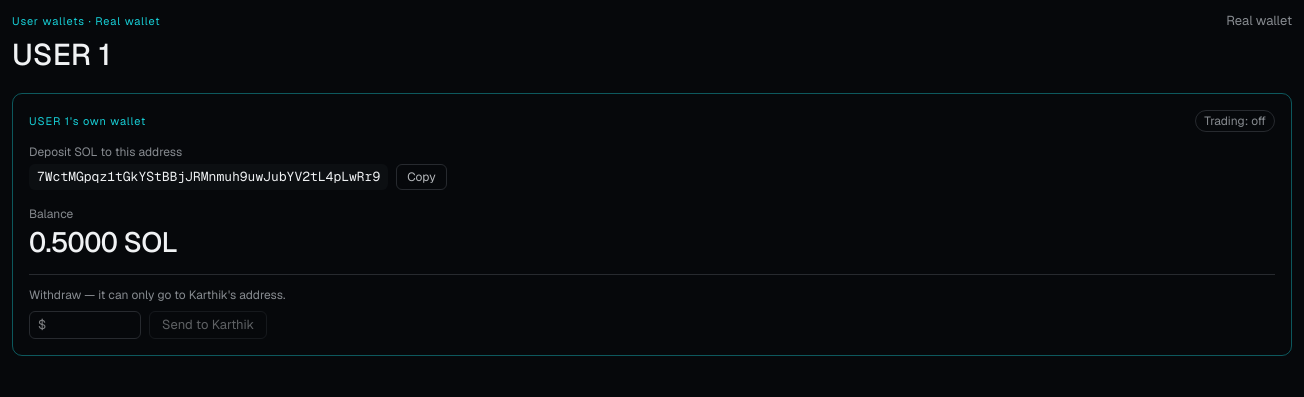
Test: a user's own wallet › will not convert dollars without a price
Type "18" into the field named "Dollars to send to Karthik" at (85, 325), box [29,311,141,339]
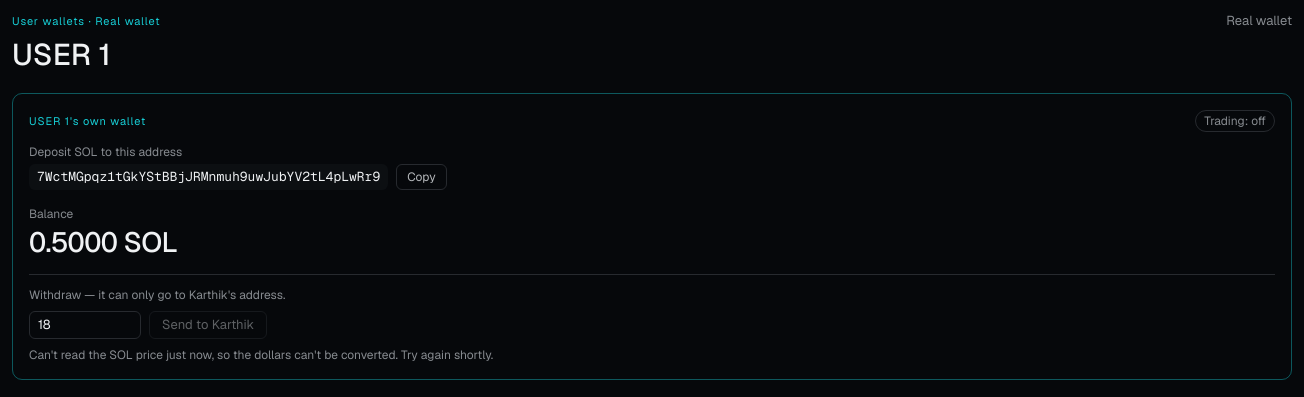
Check: the button "Send to Karthik" is disabled, box [149,311,267,339]
Check: the text "Can.t read the SOL price" is shown, box [29,347,493,363]
